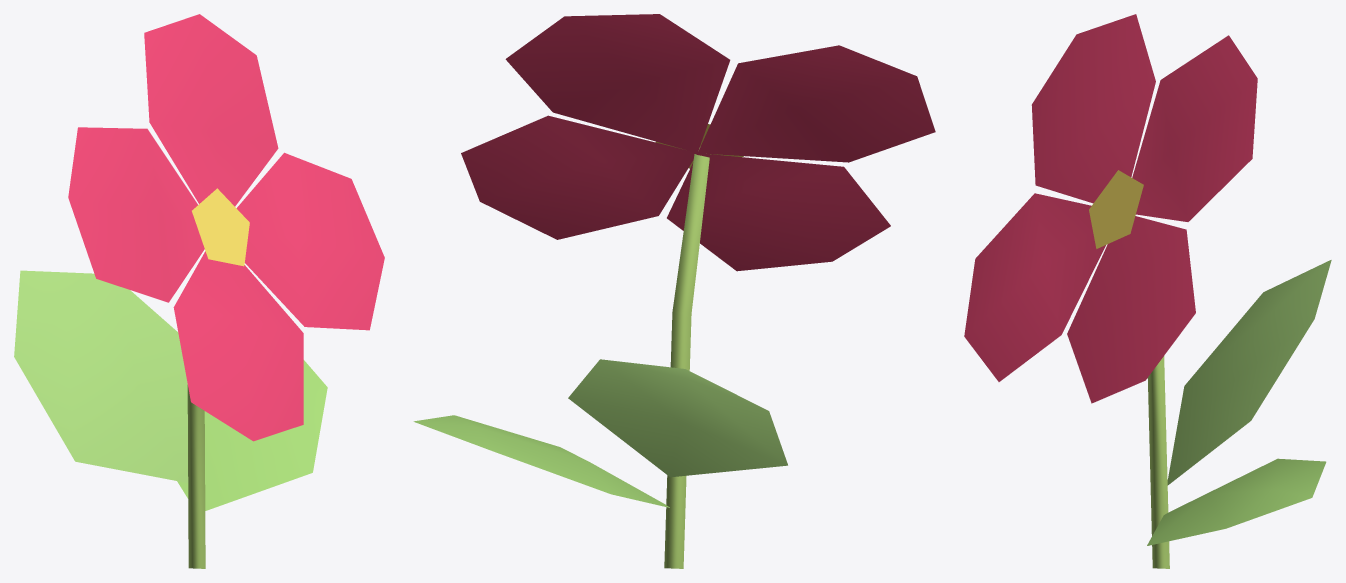
The model's file is flower6.fbx.
3 renders of one model, left to right at view 1: azimuth 30°, elevation 25°; view 2: azimuth 150°, elevation 25°; view 3: azimuth 270°, elevation 25°, orthographic. The views are drawn at different scales.
Visible parts, largest first — view 1: Flower_c_TwoS_16; view 2: Flower_c_TwoS_16; view 3: Flower_c_TwoS_16.
Part boxes in pixels (box(x1,y1,x2,y2)): Flower_c_TwoS_16: box(14, 14, 384, 568); Flower_c_TwoS_16: box(413, 14, 935, 568); Flower_c_TwoS_16: box(964, 14, 1331, 568).
Bounding box in the file's own units: 25.79 × 28.78 × 40.37.
Materials: 1 (1 with a texture image).
